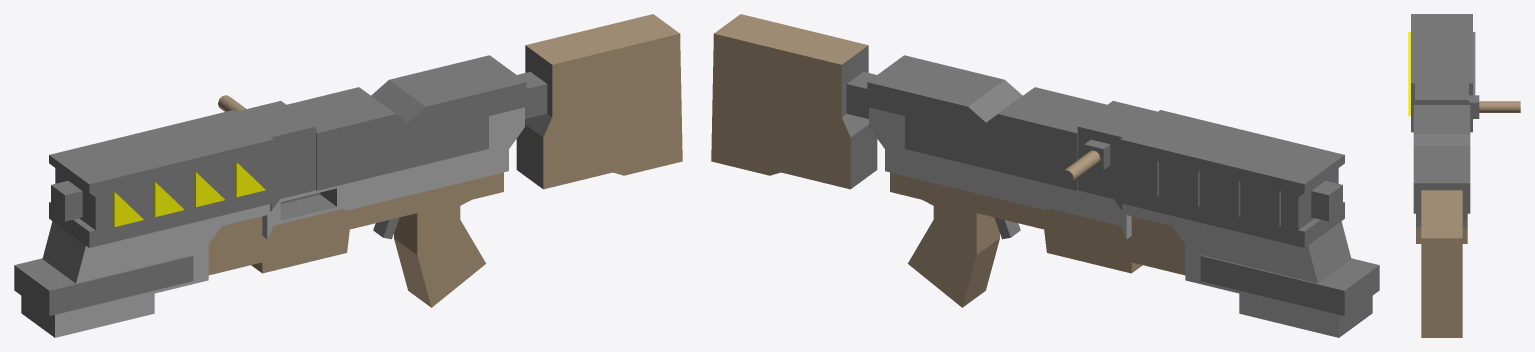
File: Rocket SMG.obj
3 renders of one model, left to right at view 1: azimuth 30°, elevation 25°; view 2: azimuth 150°, elevation 25°; view 3: azimuth 270°, elevation 25°, orthographic. The views are drawn at different scales.
Visible parts, largest first — view 1: Solid1; view 2: Solid1; view 3: Solid1.
Boxes of the visible parts, <box> form: Solid1: <box>14,14,682,337</box>; Solid1: <box>711,14,1379,337</box>; Solid1: <box>1408,14,1520,337</box>.
Bounding box in the file's own units: 10.98 × 3.54 × 2.17.
